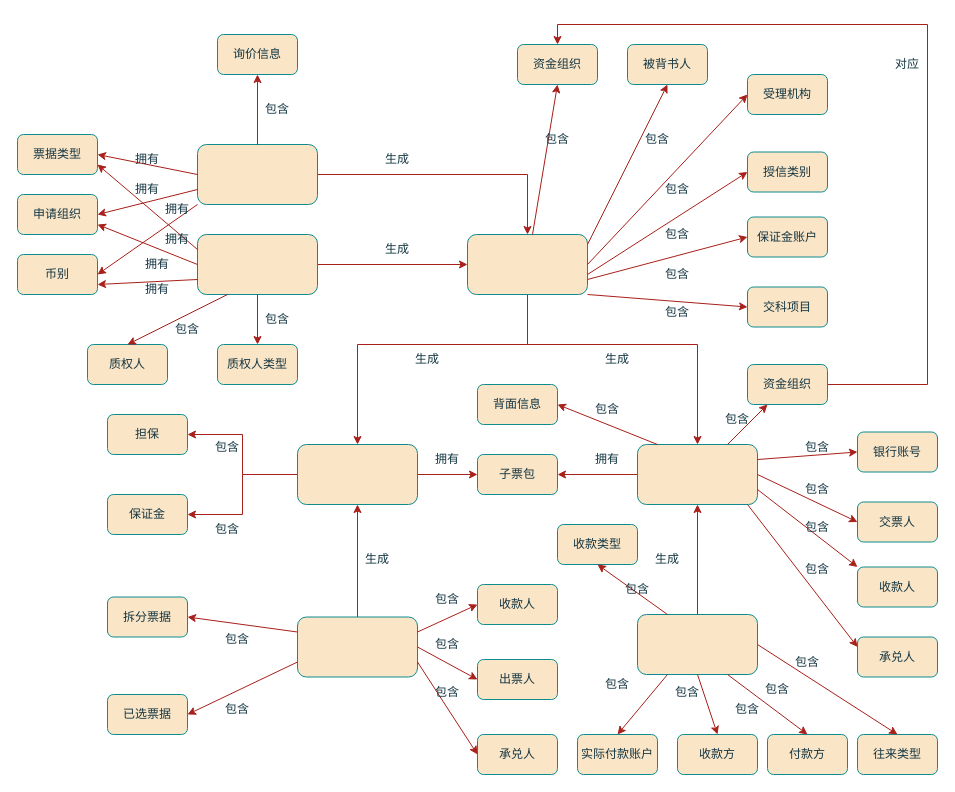
The diagram is 955 pixels wide and 792 high, and some of its shapes have lost their labels. The box of each missing label's shape, as (x1, y1, x2, y2) in pixels:
业务处理: (466, 234, 588, 294)
开票申请: (296, 616, 418, 677)
开票登记: (296, 444, 418, 504)
收款处理: (636, 614, 758, 674)
收票登记: (636, 444, 758, 504)
质押申请: (196, 234, 318, 294)
贴现申请: (196, 144, 318, 204)
